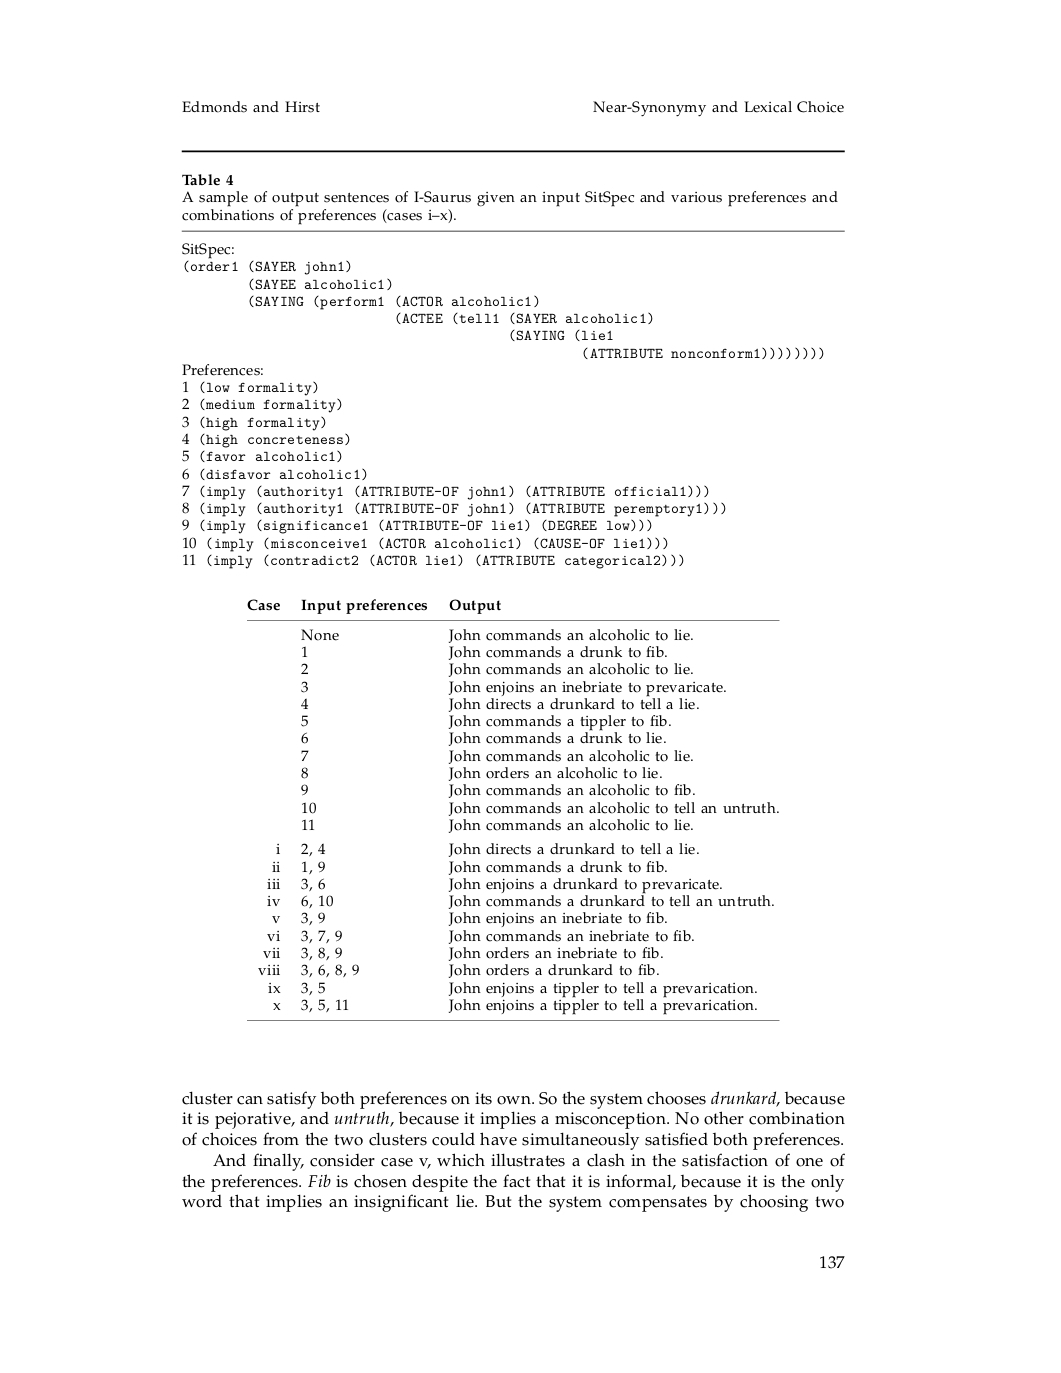Table: (247, 620, 779, 1020)
figure: (181, 149, 844, 153), (181, 228, 844, 232)
